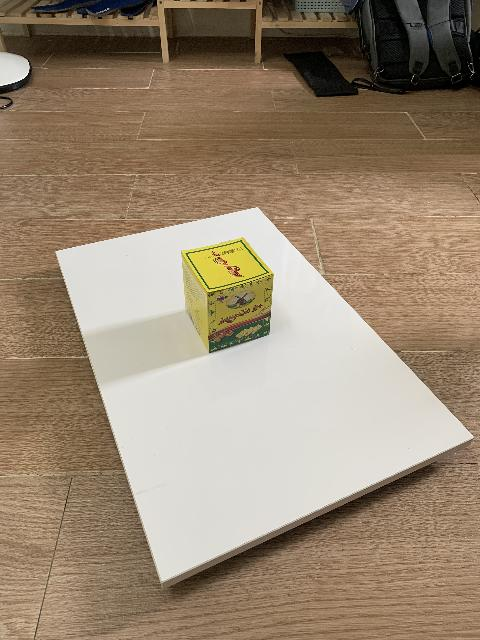luong_kho: (180, 238, 273, 355)
